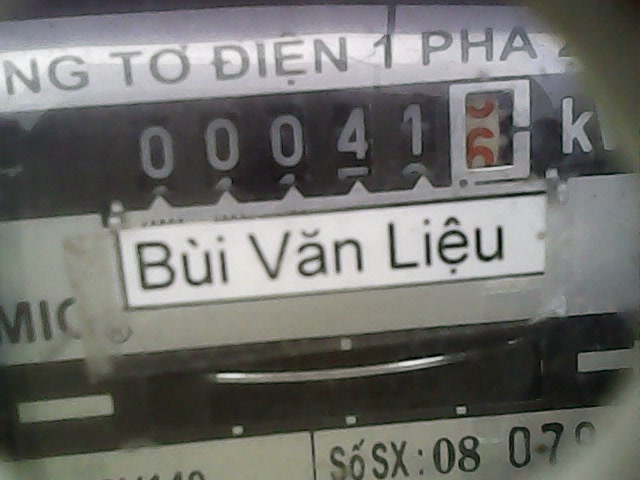phy_plate: (116, 76, 541, 200)
